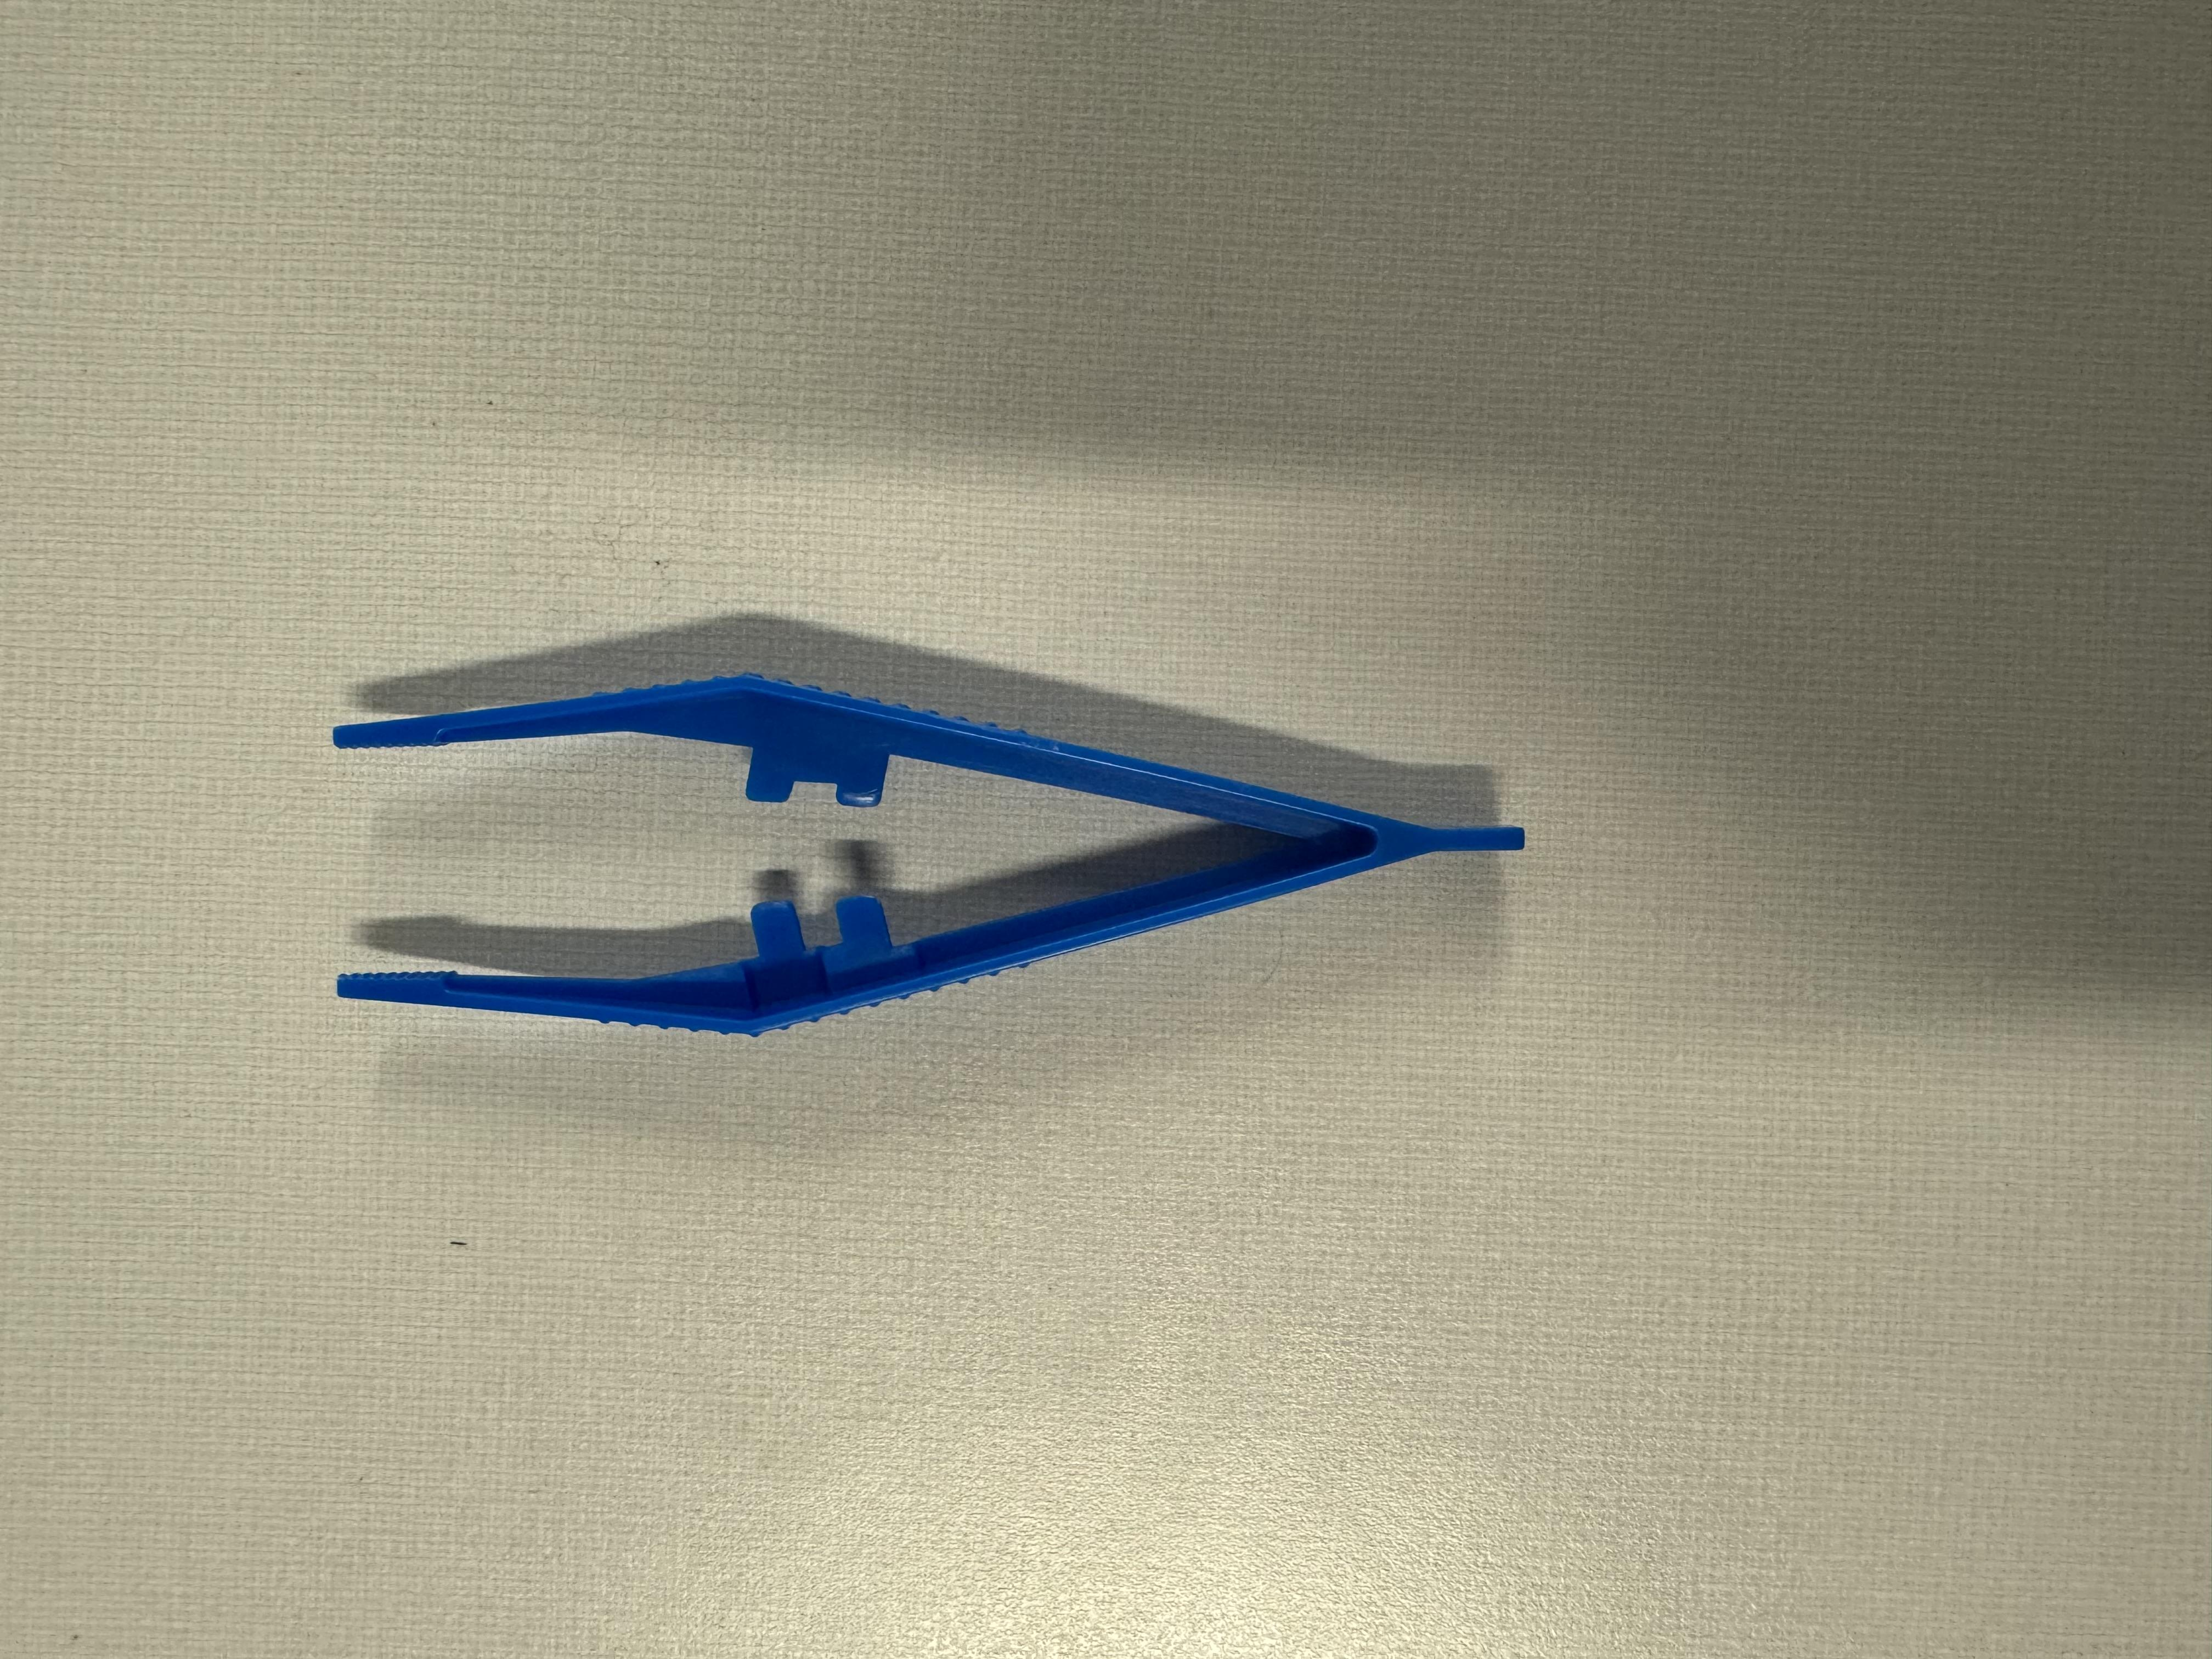tweezers: (728, 134, 1423, 1234)
